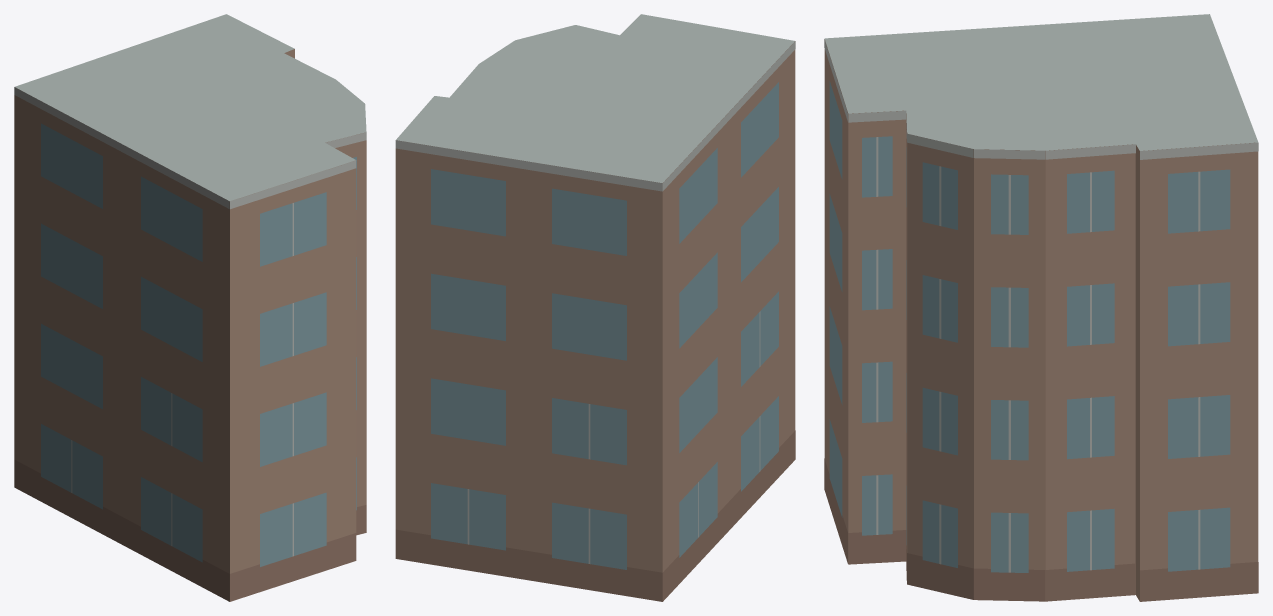
File: survey-upis-32992107.glb
3 renders of one model, left to right at view 1: azimuth 30°, elevation 25°; view 2: azimuth 150°, elevation 25°; view 3: azimuth 270°, elevation 25°, orthographic. The views are drawn at different scales.
Visible parts, largest first — view 1: survey-upis-32992107.tmp; view 2: survey-upis-32992107.tmp; view 3: survey-upis-32992107.tmp.
Boxes of the visible parts, x1=… form: survey-upis-32992107.tmp: x1=14, y1=14, x2=366, y2=601; survey-upis-32992107.tmp: x1=395, y1=14, x2=795, y2=601; survey-upis-32992107.tmp: x1=824, y1=14, x2=1258, y2=601.
Size of the model in its own units: 7.96 by 12.2 by 10.66.
